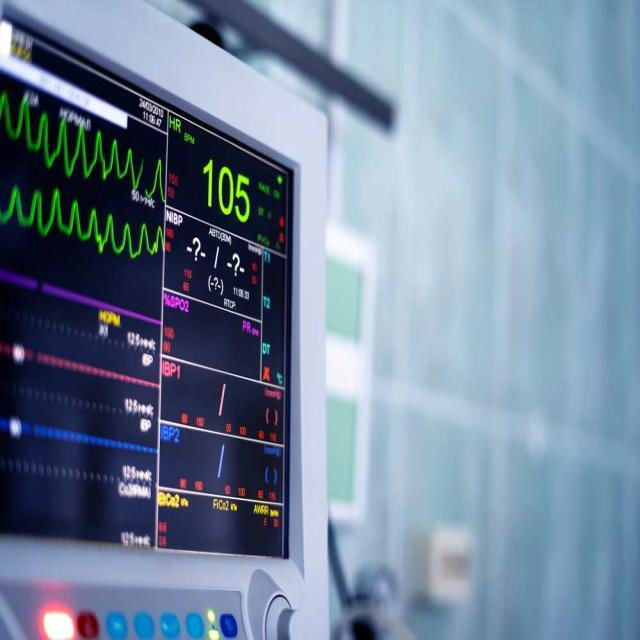Monitor: (0, 0, 332, 639)
